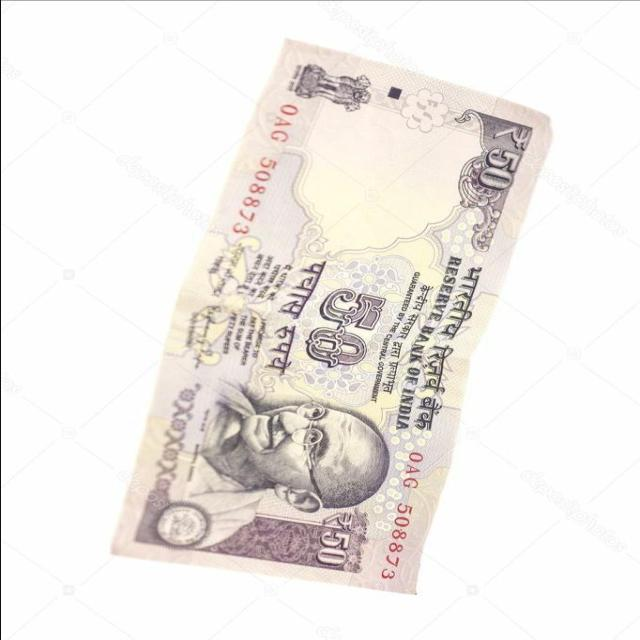50IndianRupees: (115, 59, 560, 594)
